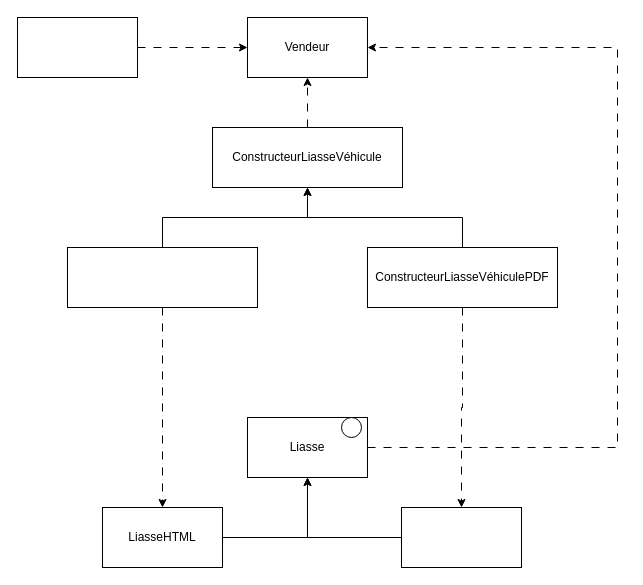
Image size: 643x585. Some labels were removed from this diagram. Here are the shapes that lost their labels. From the top down, the box of each, then its label:
(16, 16, 138, 78): ClientVéhicule
(66, 246, 258, 308): ConstructeurLiasseVéhiculeHTML
(400, 506, 522, 568): LiassePDF
